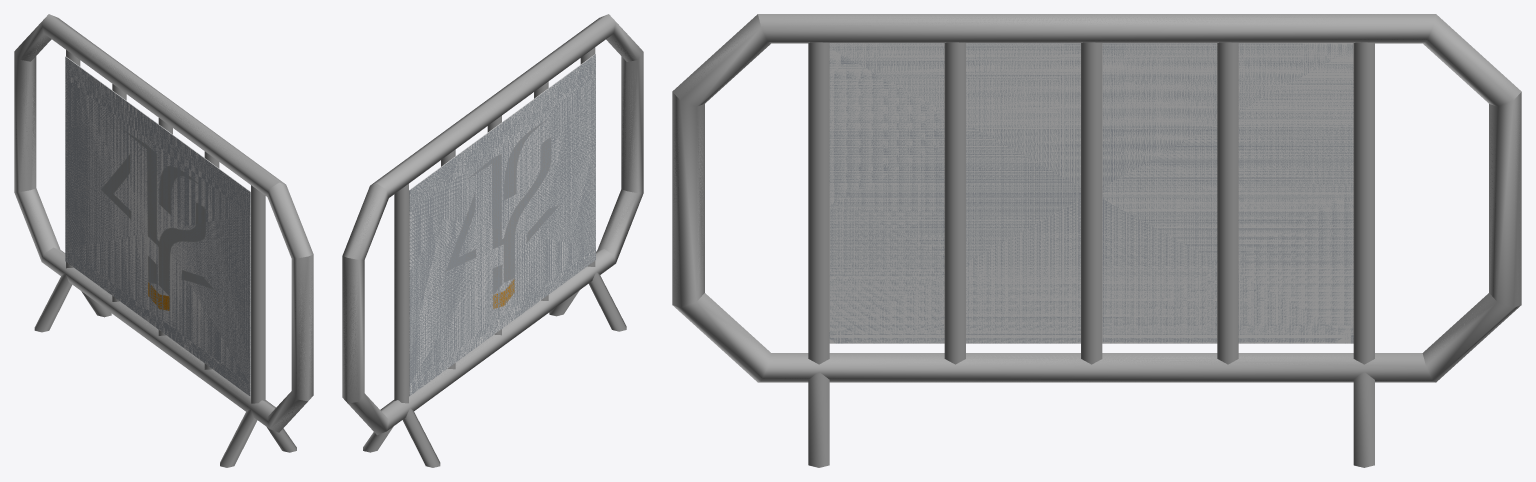
File: grade_02.fbx
3 views of the same model, side by side, from view 1: azimuth 30°, elevation 25°; view 2: azimuth 150°, elevation 25°; view 3: azimuth 270°, elevation 25° (orthographic). The views are drawn at different scales.
Visible parts, largest first — view 1: Group14, Group6, Group13, Group11, Group5, Group10; view 2: Group14, Group6, Group8, Group11, Group5, Group4; view 3: Group14, Group6, Group2, Group7, Group8, Group12, Group13, Group10, Group4.
Boxes of the visible parts, x1,y1,x2,y2 form: Group14: (65,56,250,396); Group6: (14,14,313,432); Group13: (251,185,265,403); Group11: (220,408,257,467); Group5: (34,273,72,332); Group10: (267,427,296,452); Group14: (409,54,595,396); Group6: (342,14,643,435); Group8: (394,184,408,403); Group11: (588,272,626,331); Group5: (402,408,440,467); Group4: (363,426,393,452); Group14: (829,43,1353,343); Group6: (672,14,1521,382); Group2: (944,42,965,364); Group7: (1081,42,1102,364); Group8: (1353,42,1374,364); Group12: (1217,42,1238,364); Group13: (808,42,829,364); Group10: (808,372,829,467); Group4: (1353,372,1374,467).
Size of the model in its own units: 1.15 by 4.13 by 7.45.
